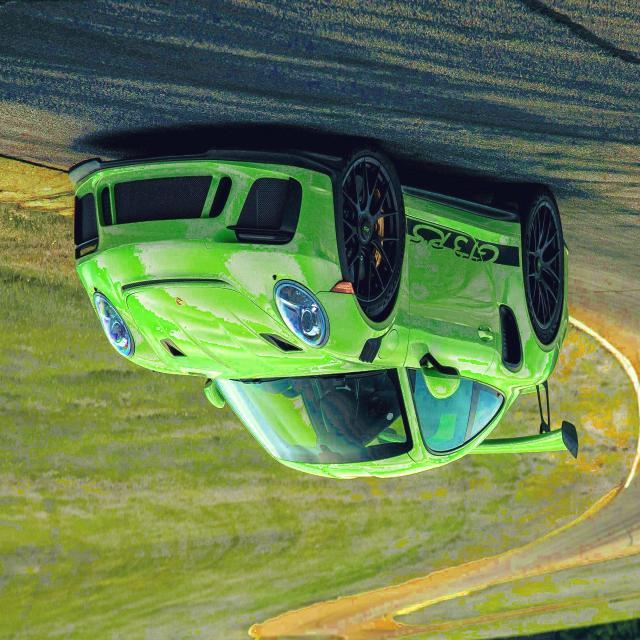green: (48, 110, 598, 503)
